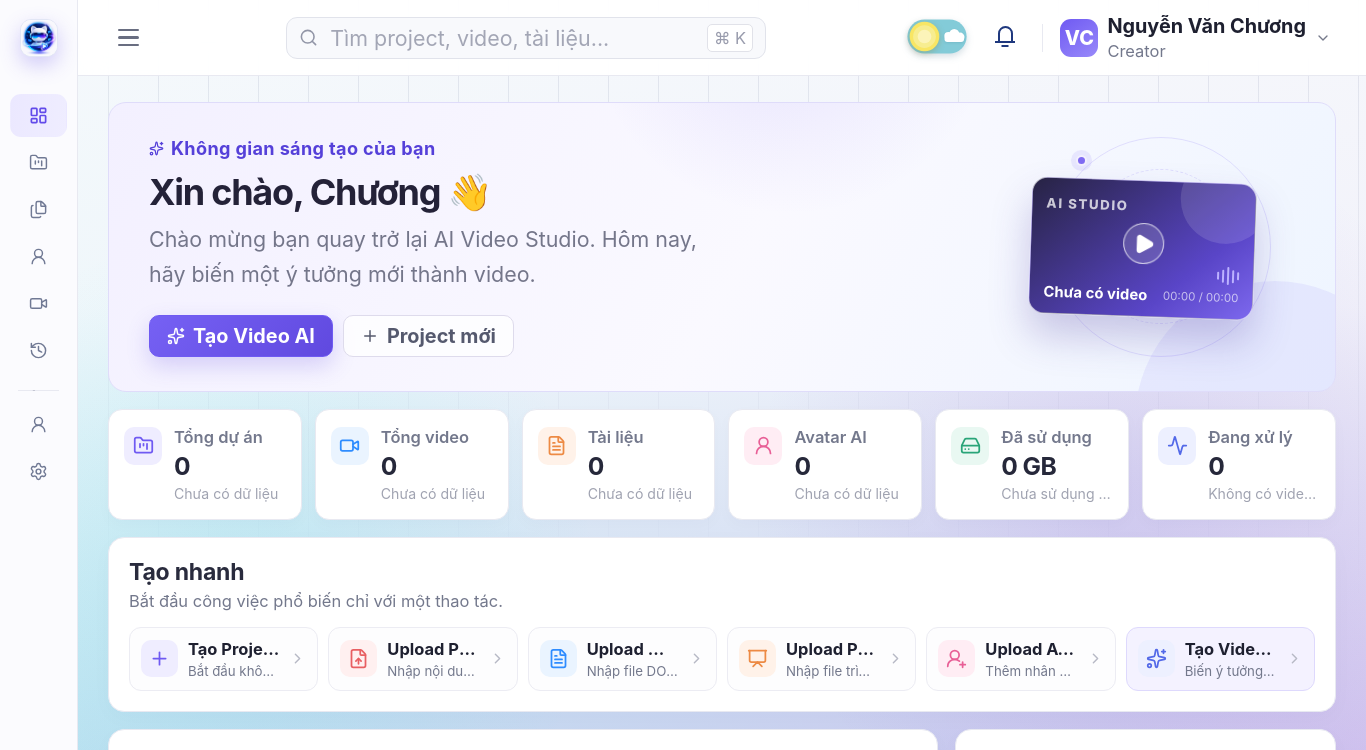
Test case: opens the profile page and saves updated account information
Click the button named "hồ sơ": (38,424) [10, 403, 67, 446]
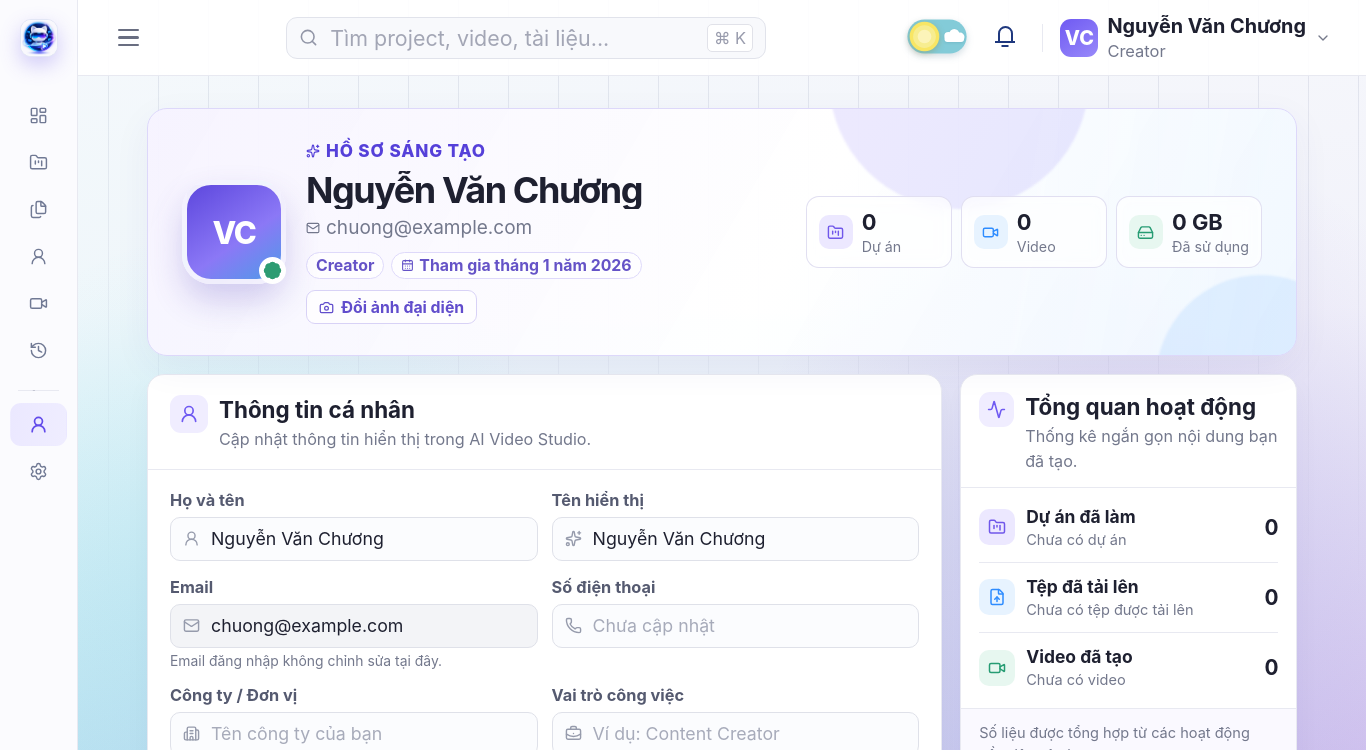
Check: the heading "Nguyễn Văn Chương" is shown, box [306, 170, 642, 209]
Check: the heading "Tổng quan hoạt động" is shown, box [1025, 393, 1278, 420]
Check: the text "Dự án đã làm" is shown, box [1026, 506, 1136, 527]
In the field labelled "Vai trò công việc": (748,734) [591, 722, 906, 745], type "Creative Lead"
(page scrolled)
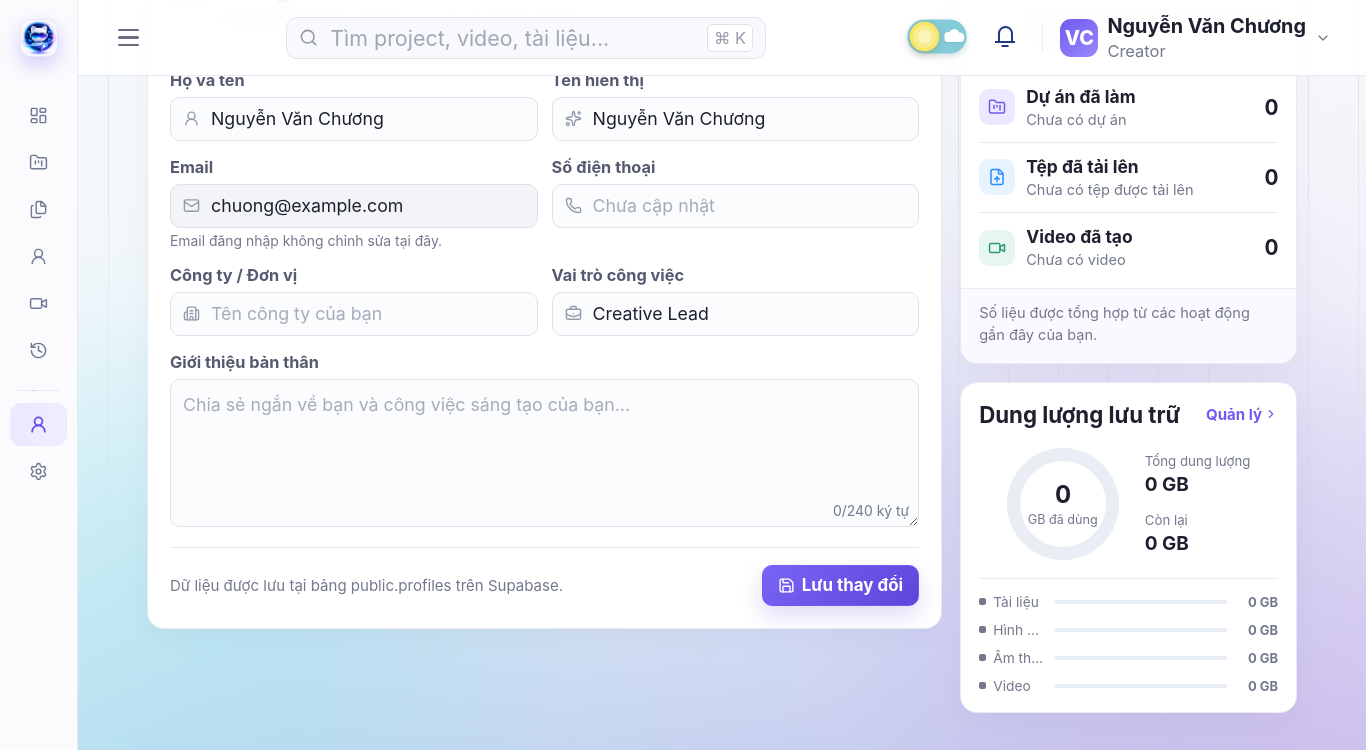
Click the button "Lưu thay đổi": (840,585) [762, 565, 919, 606]
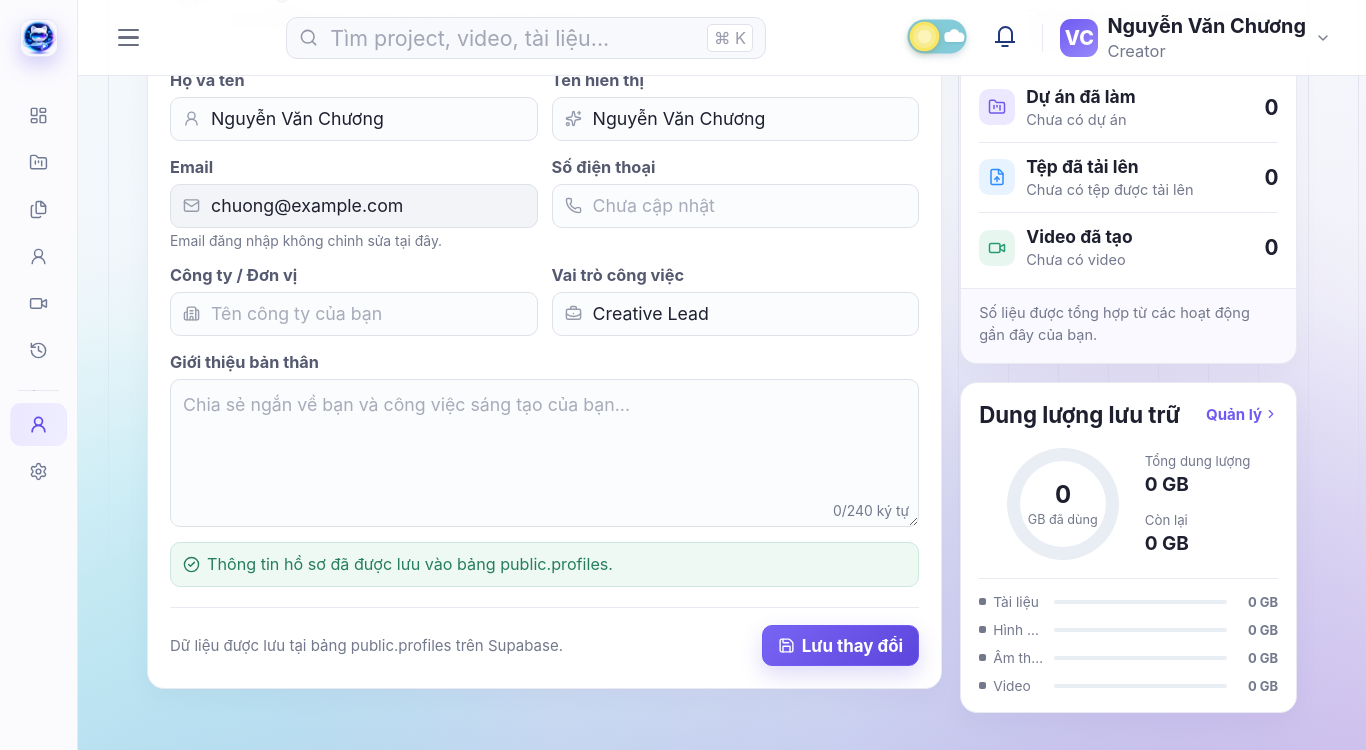
Check: the text "Thông tin hồ sơ đã được lưu vào bảng public.profiles." is shown, box [170, 542, 919, 587]
